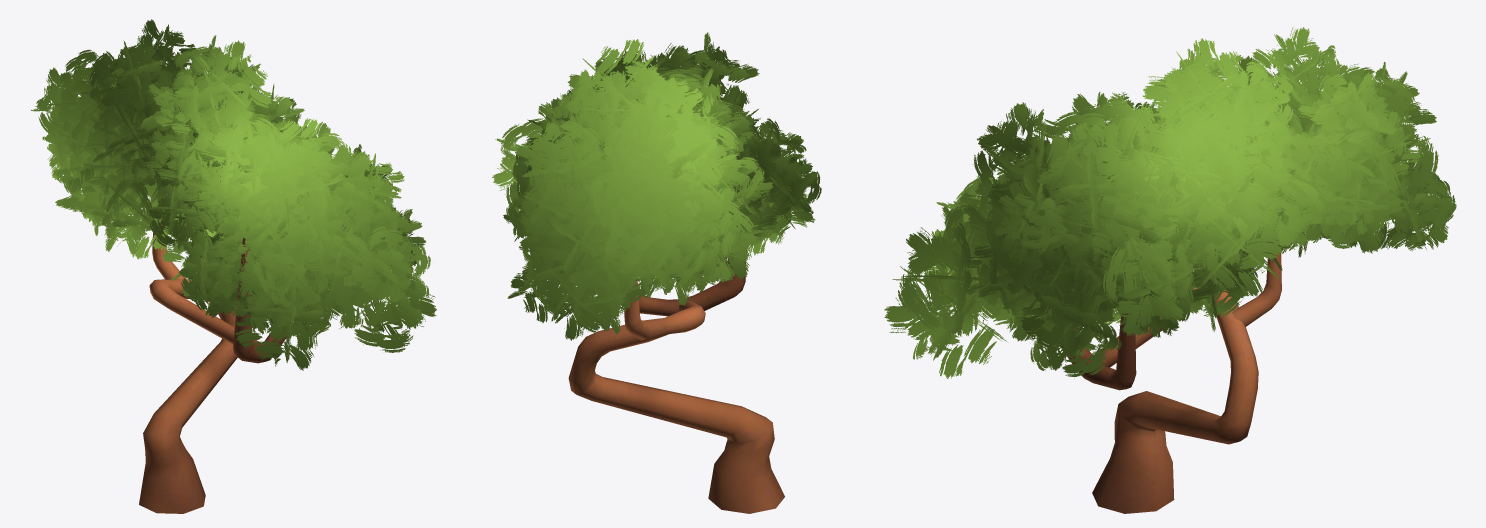
Rendered from STSwiggly1.glb.
The picture shows the model from 3 angles, left to right: view 1: azimuth 30°, elevation 25°; view 2: azimuth 150°, elevation 25°; view 3: azimuth 270°, elevation 25°; orthographic projection. The views are drawn at different scales.
Parts seen in each view (by area): view 1: STSwiggly1_Leaves, STSwiggly1_Trunk; view 2: STSwiggly1_Leaves, STSwiggly1_Trunk; view 3: STSwiggly1_Leaves, STSwiggly1_Trunk.
Part boxes in pixels (left/top/right/bottom): STSwiggly1_Leaves: left=31, top=19, right=436, bottom=370; STSwiggly1_Trunk: left=139, top=222, right=285, bottom=513; STSwiggly1_Leaves: left=492, top=32, right=821, bottom=340; STSwiggly1_Trunk: left=568, top=154, right=784, bottom=513; STSwiggly1_Leaves: left=884, top=27, right=1456, bottom=378; STSwiggly1_Trunk: left=1061, top=253, right=1281, bottom=513.
Size of the model in its own units: 4.46 by 5.99 by 6.46.
Materials: 2 (2 with a texture image).
